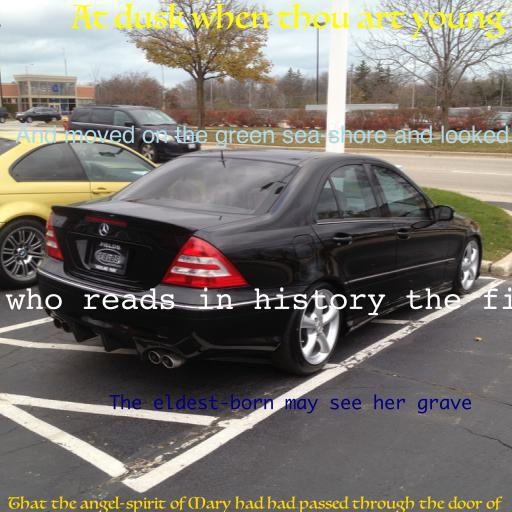Apple Chancery: (15, 125, 509, 149)
Courier: (0, 287, 512, 316)
Luminari: (72, 3, 504, 39), (8, 496, 500, 512)
Monaco: (108, 394, 472, 414)
